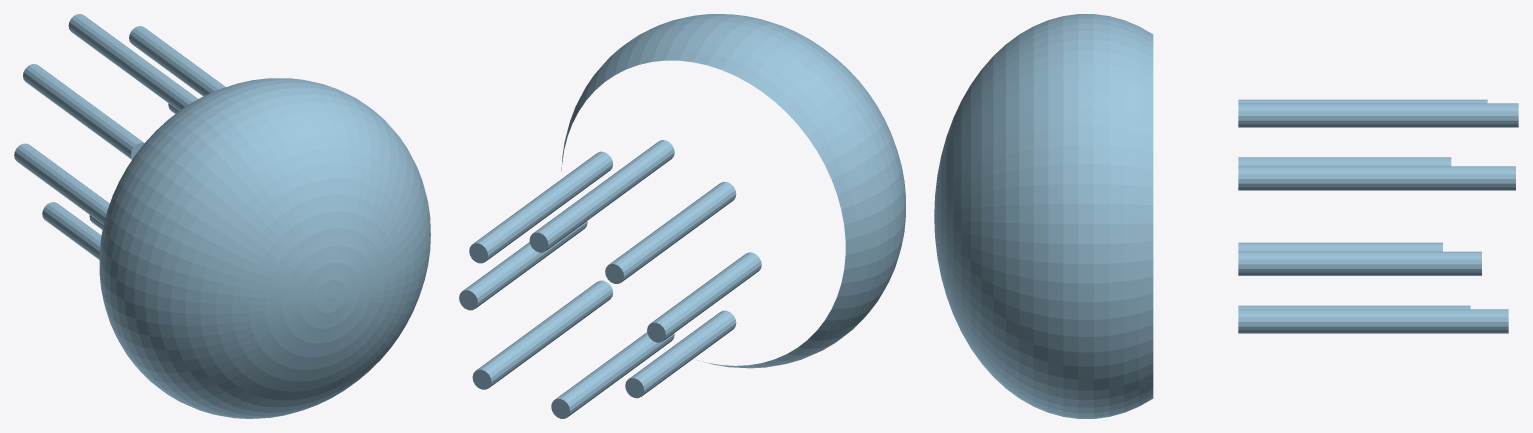
File: cute_pastel_jellyfish.glb
3 views of the same model, side by side, from view 1: azimuth 30°, elevation 25°; view 2: azimuth 150°, elevation 25°; view 3: azimuth 270°, elevation 25° (orthographic). The views are drawn at different scales.
Visible parts, largest first — view 1: world; view 2: world; view 3: world.
Part boxes in pixels (<box>): world: <box>14,14,430,418</box>; world: <box>459,14,905,418</box>; world: <box>934,14,1518,418</box>.
Bounding box in the file's own units: 2 × 2 × 2.88.
